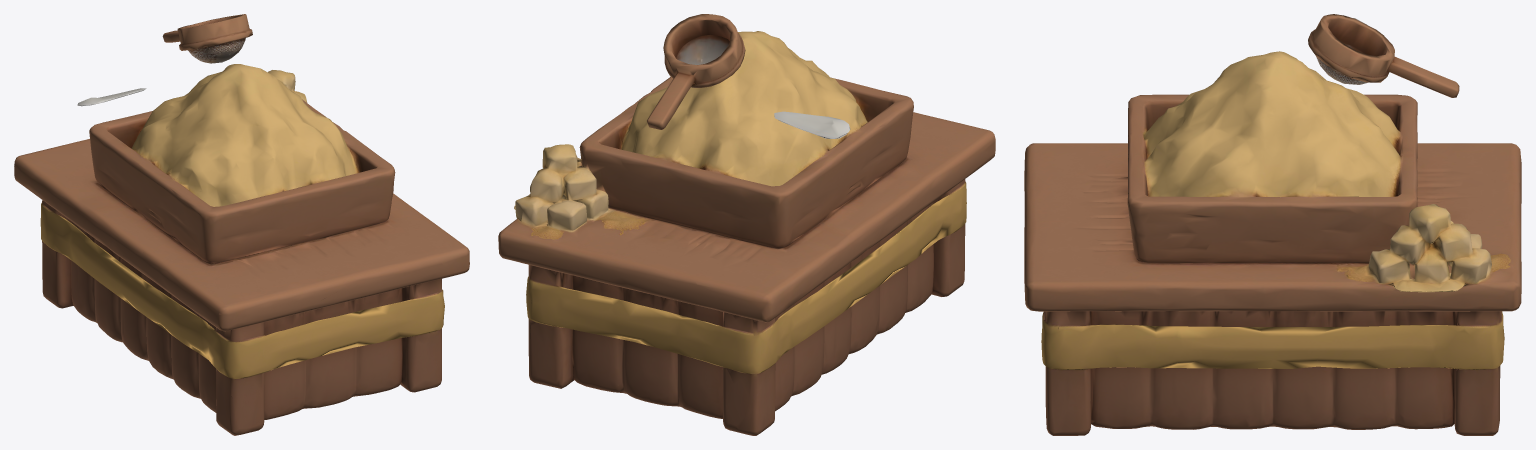
Rendered from KR_사물_s1_station_topping_t2_v2.glb.
The picture shows the model from 3 angles, left to right: view 1: azimuth 30°, elevation 25°; view 2: azimuth 150°, elevation 25°; view 3: azimuth 270°, elevation 25°; orthographic projection. The views are drawn at different scales.
Visible parts, largest first — view 1: tripo_node_6e86117f-06df-4dd4-a66a-11edc4937e9a; view 2: tripo_node_6e86117f-06df-4dd4-a66a-11edc4937e9a; view 3: tripo_node_6e86117f-06df-4dd4-a66a-11edc4937e9a.
Boxes of the visible parts, x1,y1,x2,y2 form: tripo_node_6e86117f-06df-4dd4-a66a-11edc4937e9a: [14, 14, 469, 435]; tripo_node_6e86117f-06df-4dd4-a66a-11edc4937e9a: [498, 14, 995, 435]; tripo_node_6e86117f-06df-4dd4-a66a-11edc4937e9a: [1024, 14, 1521, 435].
Size of the model in its own units: 0.7255 by 0.7992 by 1.
1 material, 1 textured.
